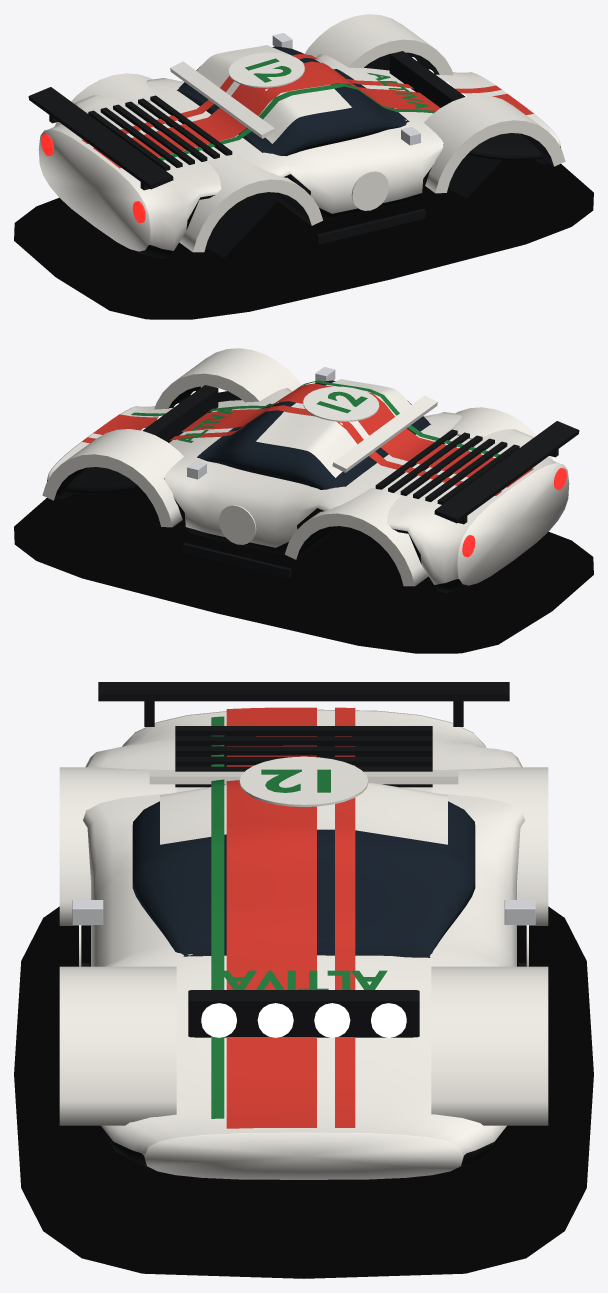
File: car-5.glb
3 views of the same model, one above another, from view 1: azimuth 30°, elevation 25°; view 2: azimuth 150°, elevation 25°; view 3: azimuth 270°, elevation 25° (orthographic). The views are drawn at different scales.
Visible parts, largest first — view 1: car-5; view 2: car-5; view 3: car-5.
Boxes of the visible parts, <box> form: car-5: <box>14,14,593,319</box>; car-5: <box>14,348,593,653</box>; car-5: <box>14,682,593,1278</box>.
Bounding box in the file's own units: 3.8 × 1.15 × 2.28.
